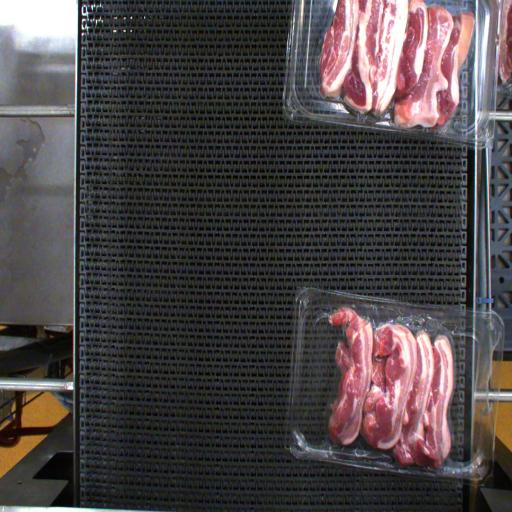unsealed: (318, 293, 462, 454)
